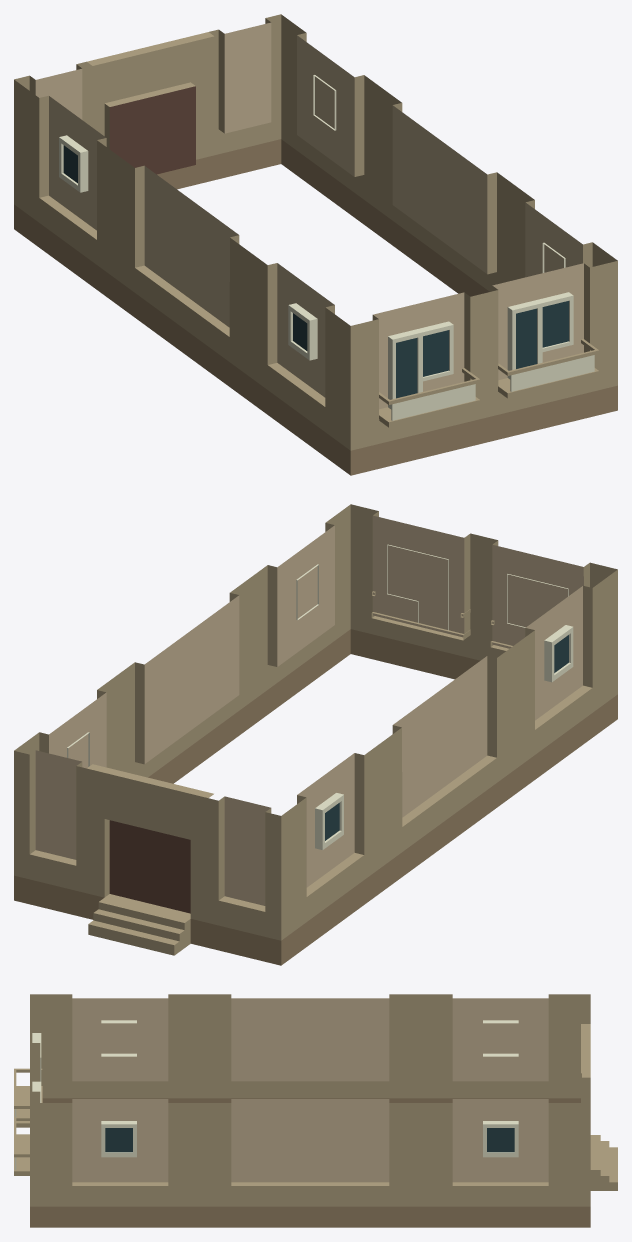
Rendered from apartment_building1_ground.fbx.
3 renders of one model, top to bottom at view 1: azimuth 30°, elevation 25°; view 2: azimuth 150°, elevation 25°; view 3: azimuth 270°, elevation 25°, orthographic. The views are drawn at different scales.
Visible parts, largest first — view 1: apartment_building1_ground; view 2: apartment_building1_ground; view 3: apartment_building1_ground.
Boxes of the visible parts, box(x1,y1,x2,y2) form: apartment_building1_ground: box(14, 14, 617, 475); apartment_building1_ground: box(14, 504, 617, 965); apartment_building1_ground: box(14, 994, 617, 1227).
Size of the model in its own units: 560 by 300 by 1317.
